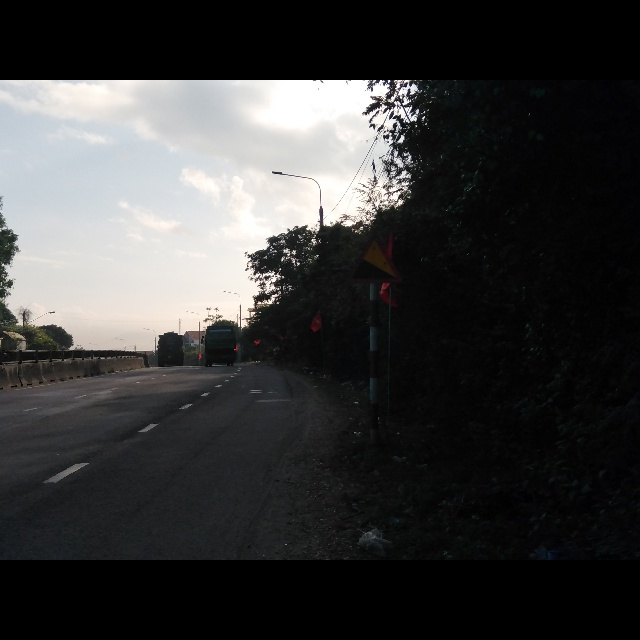Dốc lên nguy hiểm: (349, 234, 401, 284)
